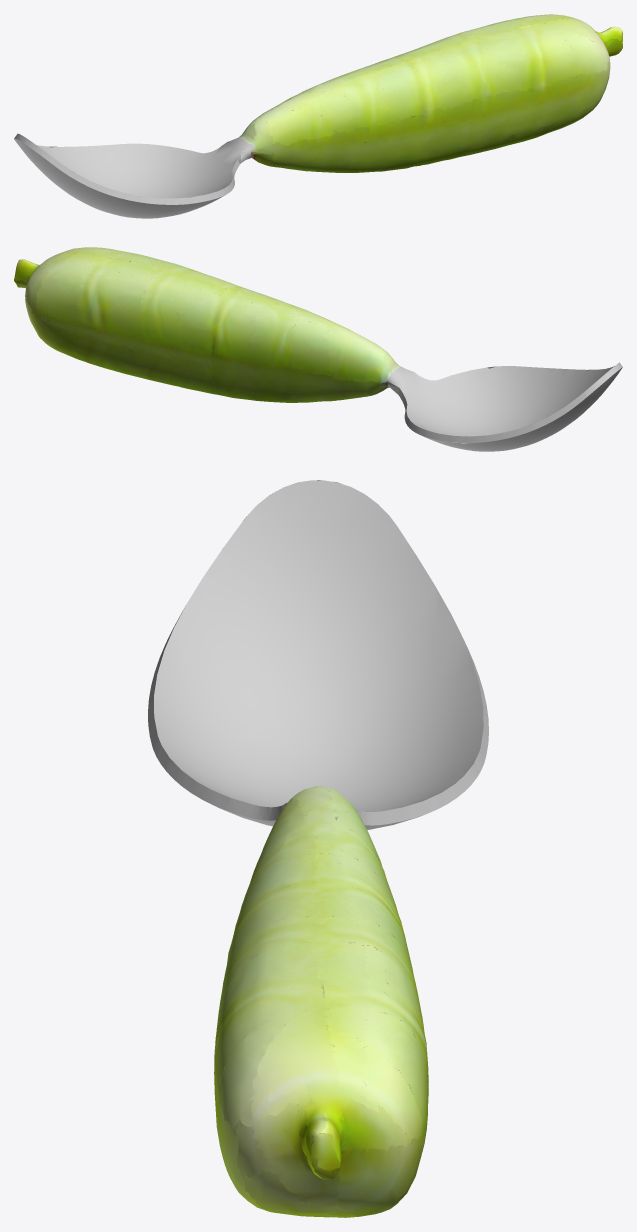
3 views of the same model, one above another, from view 1: azimuth 30°, elevation 25°; view 2: azimuth 150°, elevation 25°; view 3: azimuth 270°, elevation 25° (orthographic). The views are drawn at different scales.
Visible parts, largest first — view 1: Model.001; view 2: Model.001; view 3: Model.001.
Part boxes in pixels (bbox=[...]): Model.001: bbox=[14, 14, 622, 218]; Model.001: bbox=[14, 247, 622, 451]; Model.001: bbox=[148, 480, 488, 1217].
Bounding box in the file's own units: 0.14 × 0.0346 × 0.026.
Materials: 2 (1 with a texture image).
